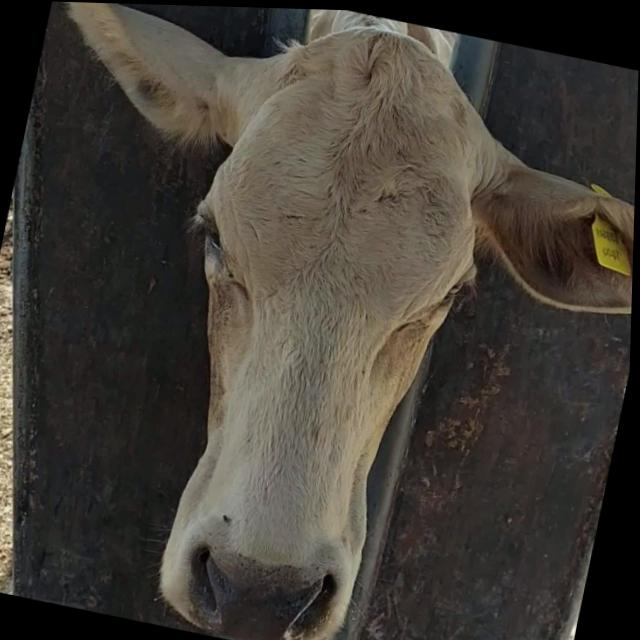cowFace: (120, 11, 503, 640)
